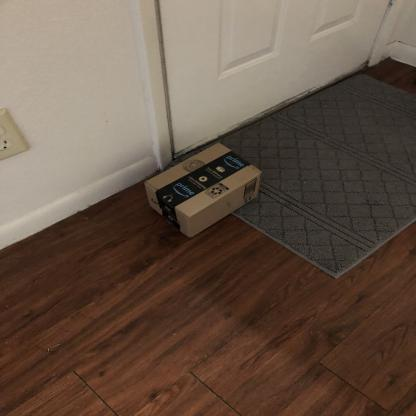package: (142, 142, 264, 241)
